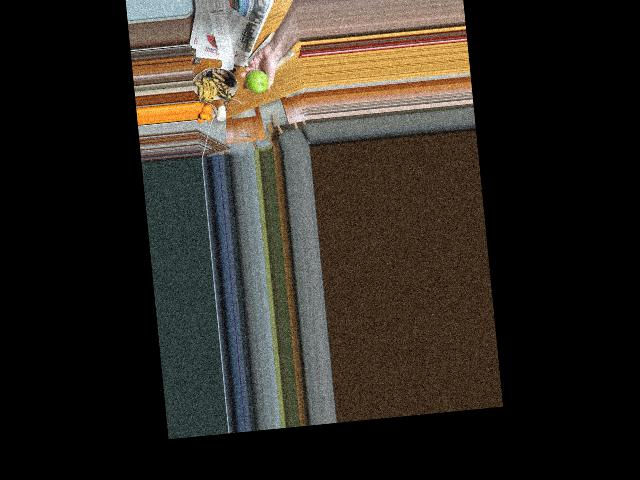apple: (244, 68, 270, 95)
